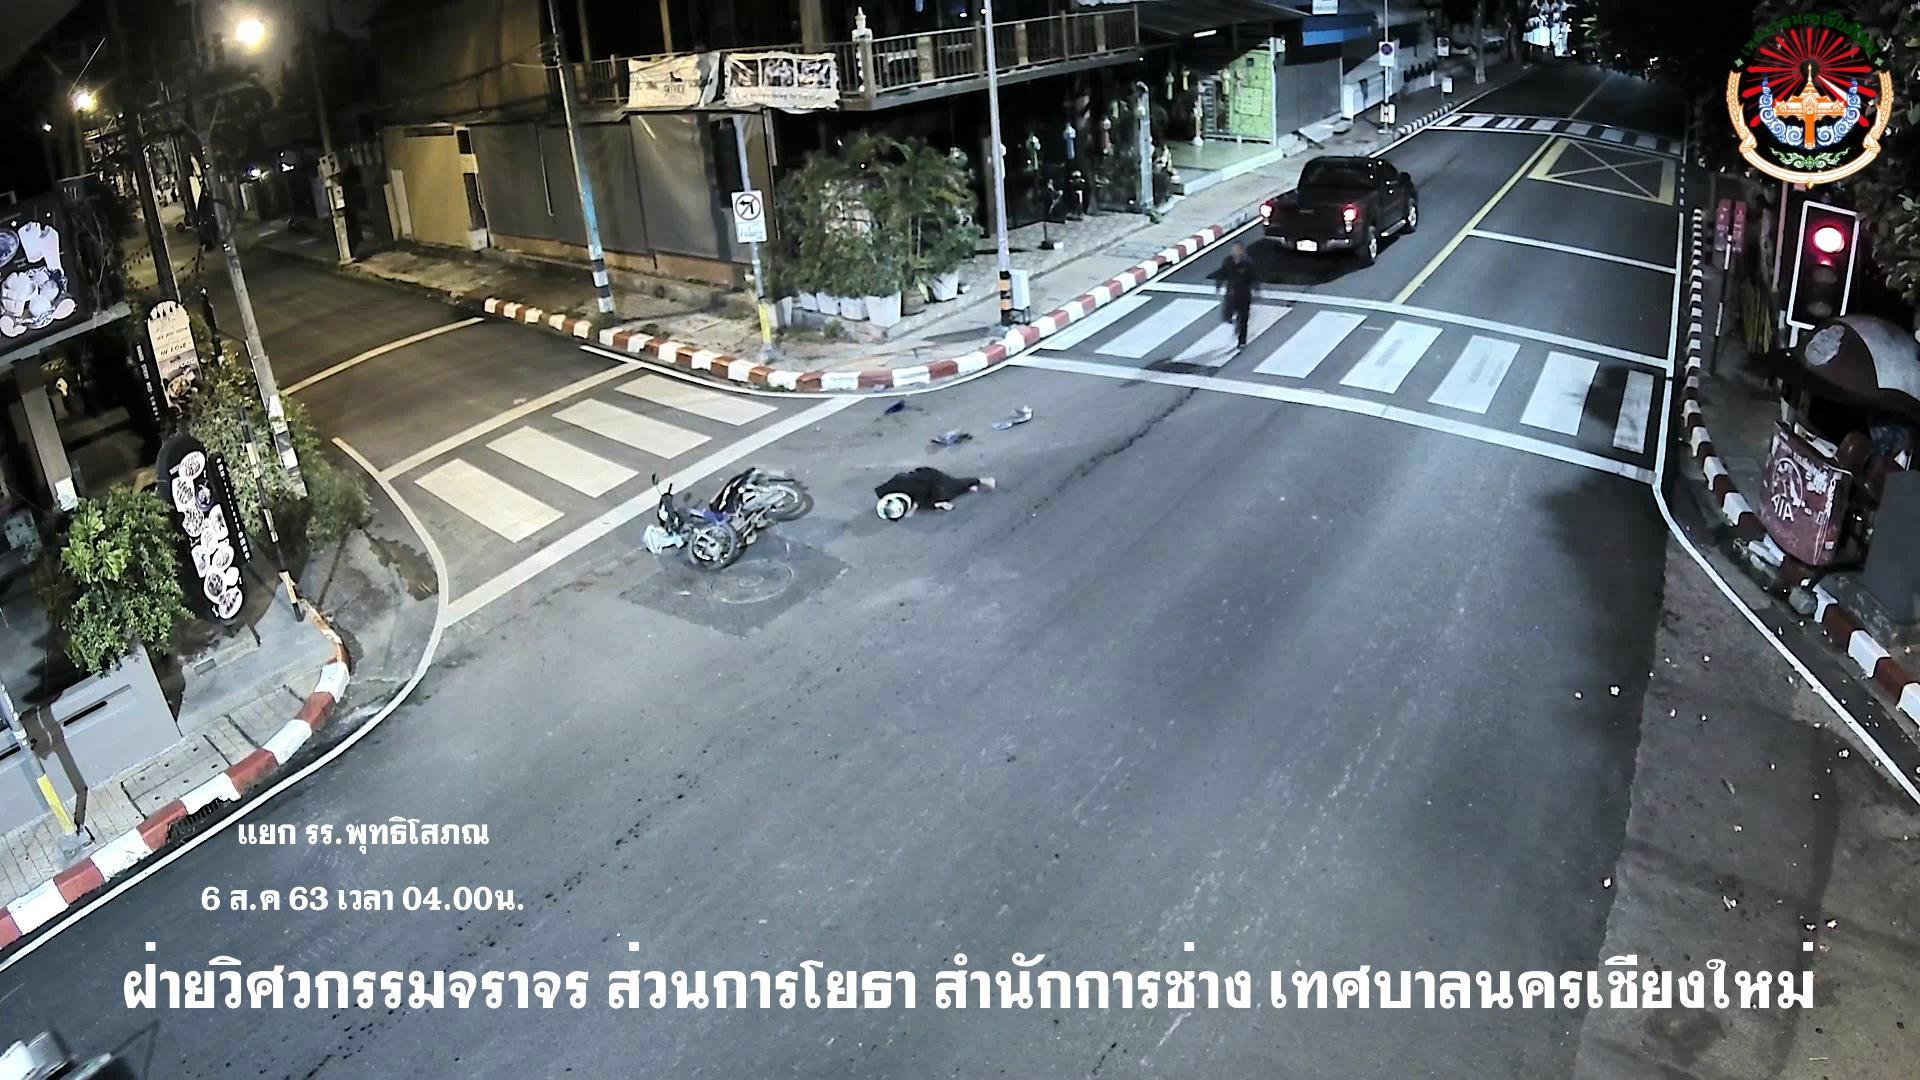accident: (872, 465, 998, 522)
